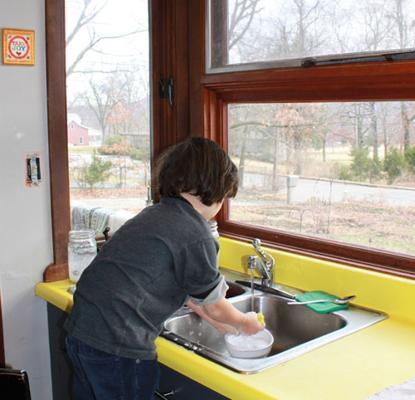person: (67, 137, 269, 398)
